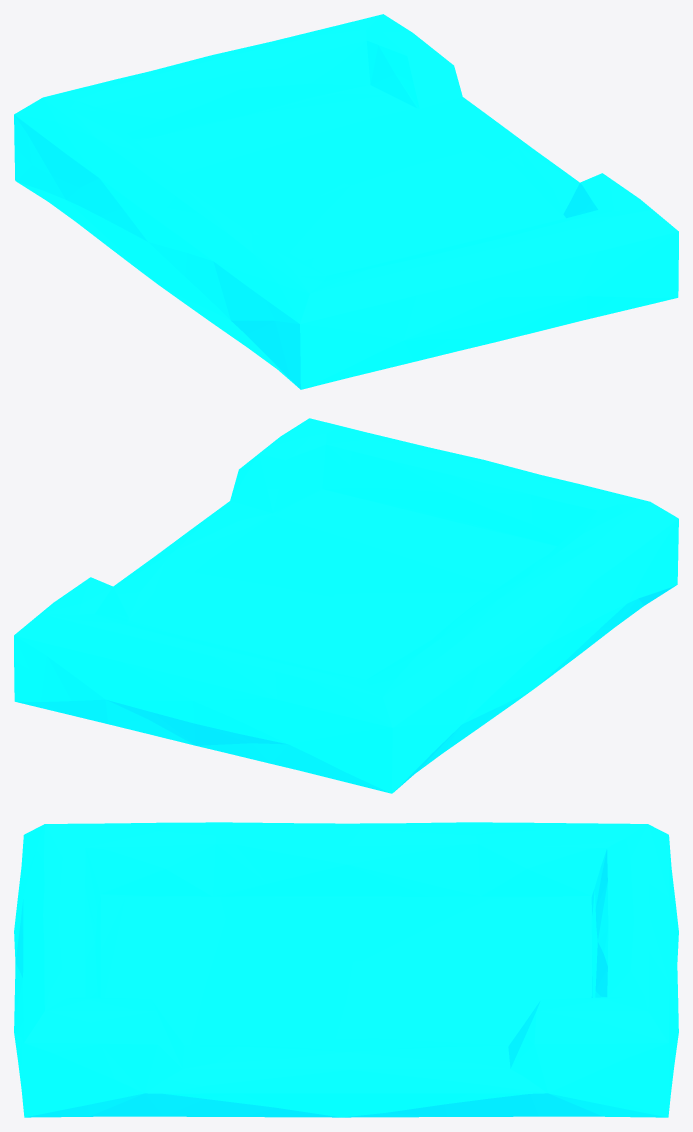
Rendered from bed.glb.
The picture shows the model from 3 angles, top to bottom: view 1: azimuth 30°, elevation 25°; view 2: azimuth 150°, elevation 25°; view 3: azimuth 270°, elevation 25°; orthographic projection. The views are drawn at different scales.
Visible parts, largest first — view 1: tripo_node_f5c91a55-c193-49b7-865c-3a91982b6318.001; view 2: tripo_node_f5c91a55-c193-49b7-865c-3a91982b6318.001; view 3: tripo_node_f5c91a55-c193-49b7-865c-3a91982b6318.001.
Part boxes in pixels (x1,y1,x2,y2): tripo_node_f5c91a55-c193-49b7-865c-3a91982b6318.001: [14, 14, 678, 389]; tripo_node_f5c91a55-c193-49b7-865c-3a91982b6318.001: [14, 418, 678, 793]; tripo_node_f5c91a55-c193-49b7-865c-3a91982b6318.001: [14, 822, 678, 1117].
Size of what is drawn, in the model's own units: 2.51 by 0.5386 by 3.23.
